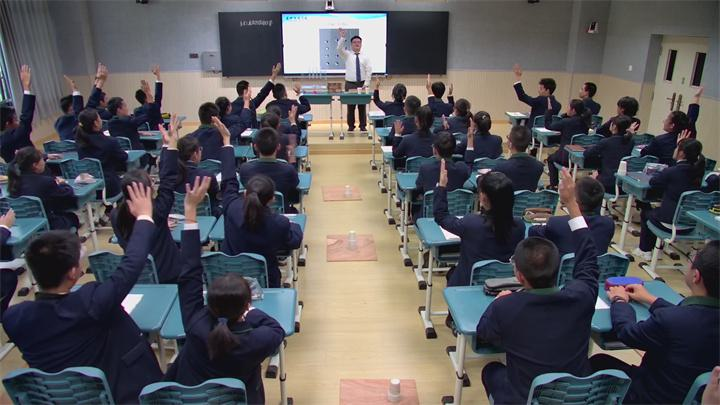hands-up: (7, 180, 159, 363), (477, 164, 595, 367), (173, 177, 289, 371), (211, 119, 295, 241), (436, 162, 524, 249), (649, 133, 714, 205), (54, 58, 117, 123), (647, 84, 711, 143), (1, 62, 46, 143), (512, 62, 560, 110), (234, 59, 286, 98), (211, 88, 259, 129), (132, 67, 168, 121), (428, 76, 472, 115), (372, 75, 404, 112)
listen: (620, 251, 720, 372)
